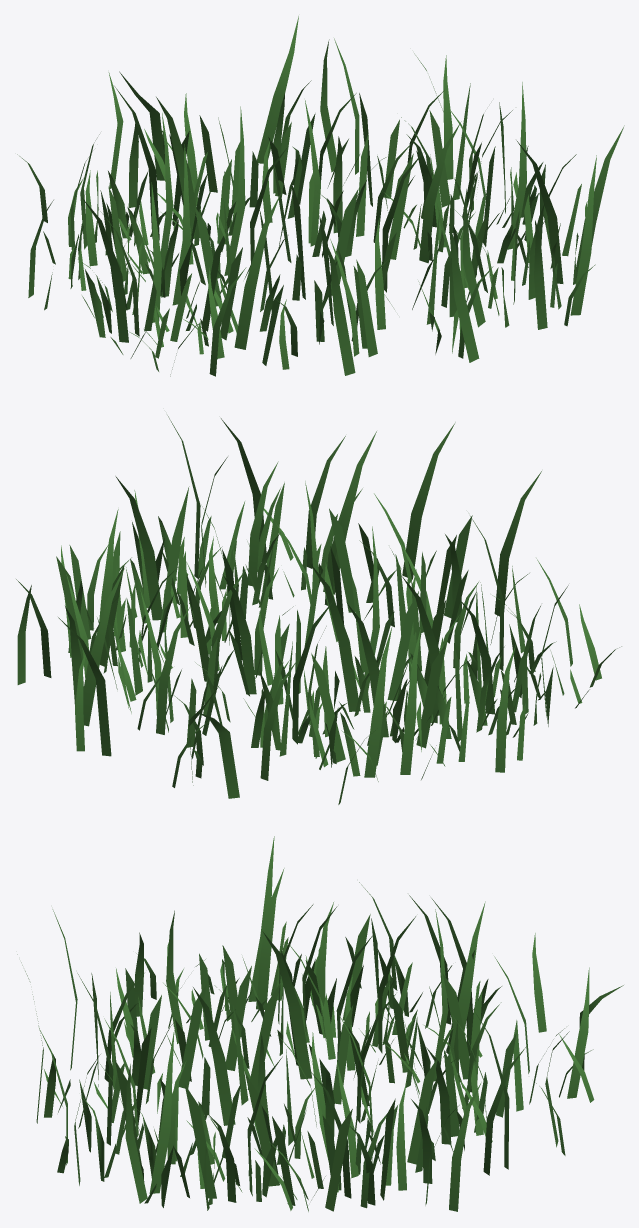
Rendered from grass_patch_3_lods.glb.
The picture shows the model from 3 angles, top to bottom: view 1: azimuth 30°, elevation 25°; view 2: azimuth 150°, elevation 25°; view 3: azimuth 270°, elevation 25°; orthographic projection.
Visible parts, largest first — view 1: GrassLOD0; view 2: GrassLOD0; view 3: GrassLOD0.
Boxes of the visible parts, x1=… form: GrassLOD0: x1=17, y1=16, x2=624, y2=376; GrassLOD0: x1=16, y1=415, x2=621, y2=804; GrassLOD0: x1=17, y1=836, x2=623, y2=1211.
Size of what is drawn, in the model's own units: 0.7877 by 0.2494 by 0.8548.
